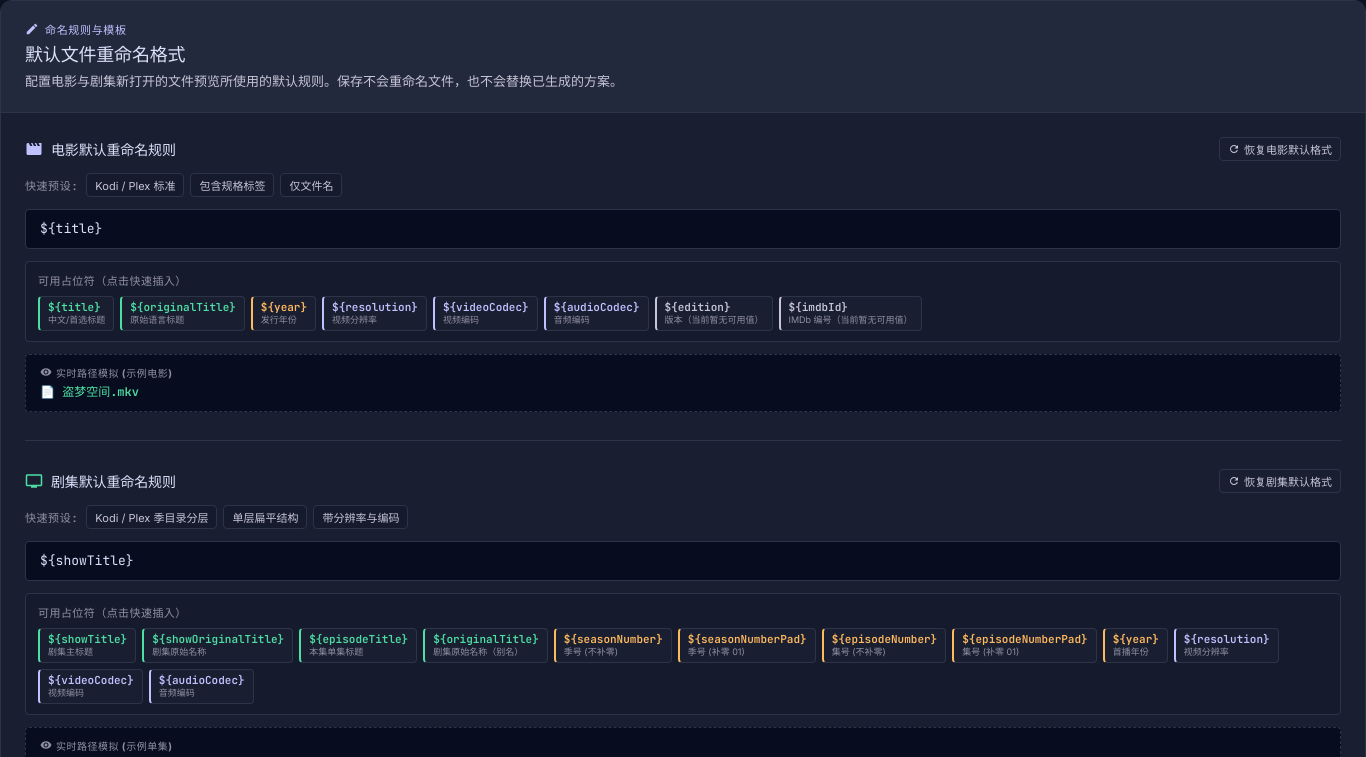
rename defaults settings › updates input and live preview when clicking a preset chip
Expected: the button "Kodi / Plex 标准" is shown, x1=86 y1=173 x2=184 y2=197
// Click second preset (with specs)
Click the button "包含规格标签".
click(232, 185)  # box x1=190 y1=173 x2=274 y2=197
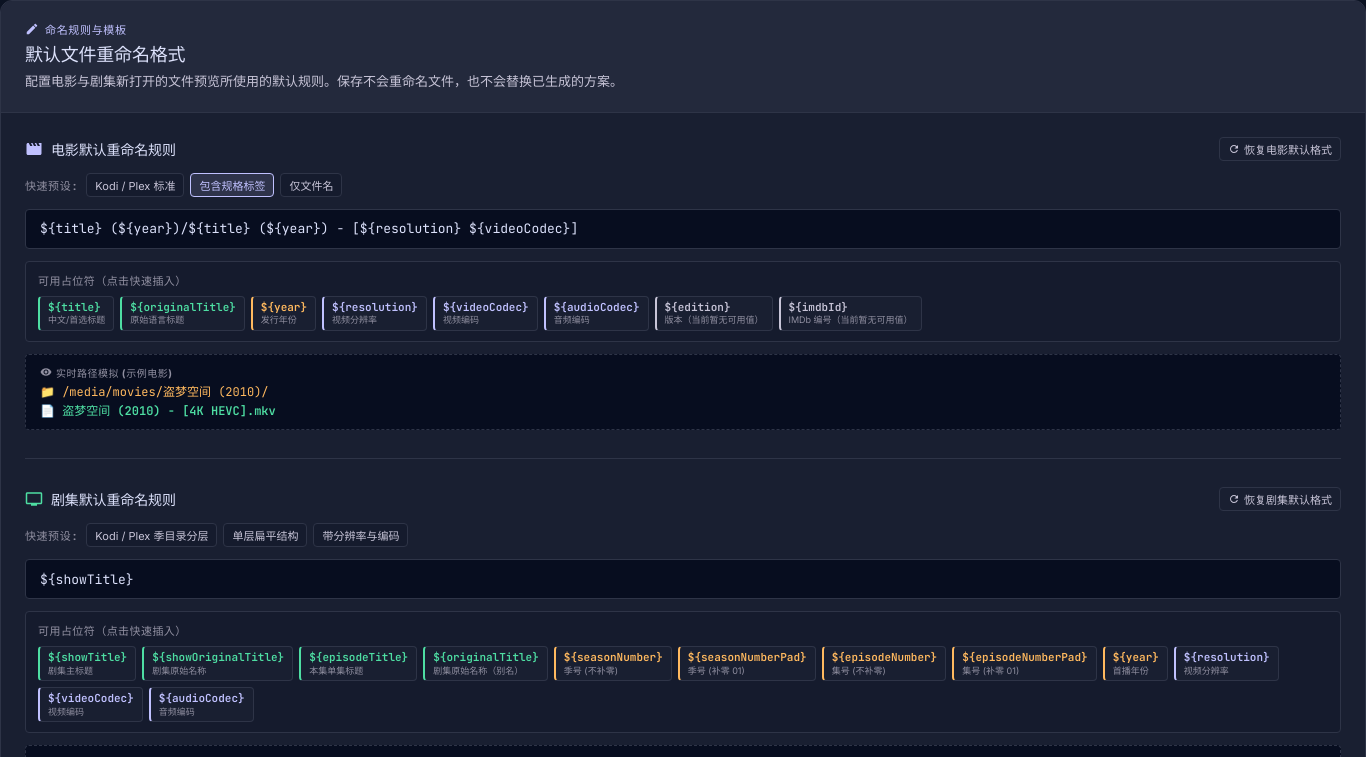
Result: the element that starts with "实时路径模拟 (示例电影)" shows "4K" at x1=40 y1=403 x2=276 y2=419
